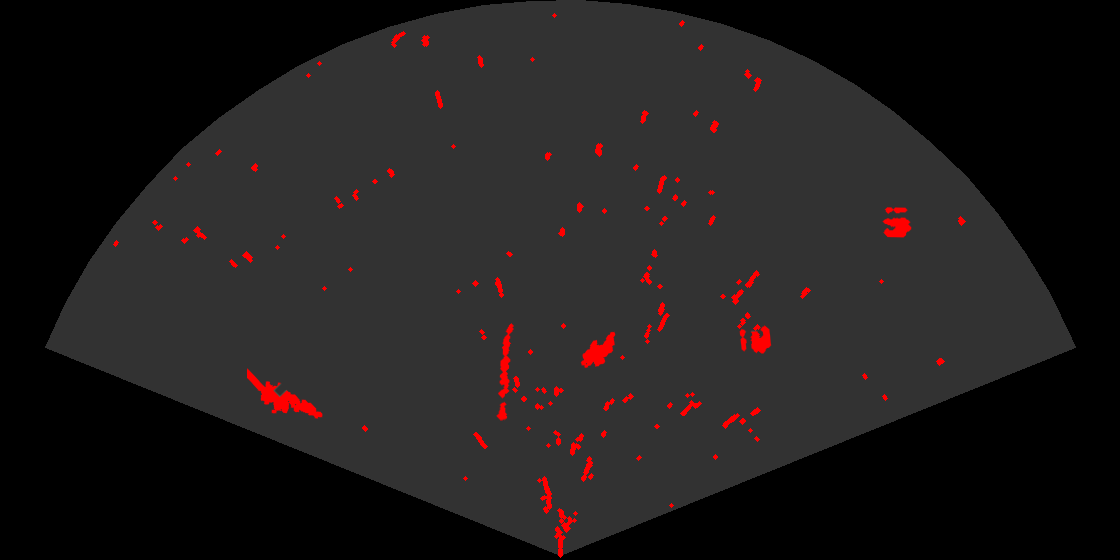AUV: (579, 330, 617, 370)
ball: (738, 324, 773, 355), (881, 206, 913, 239)
chain: (495, 322, 515, 421)
frogman: (247, 367, 324, 420)
